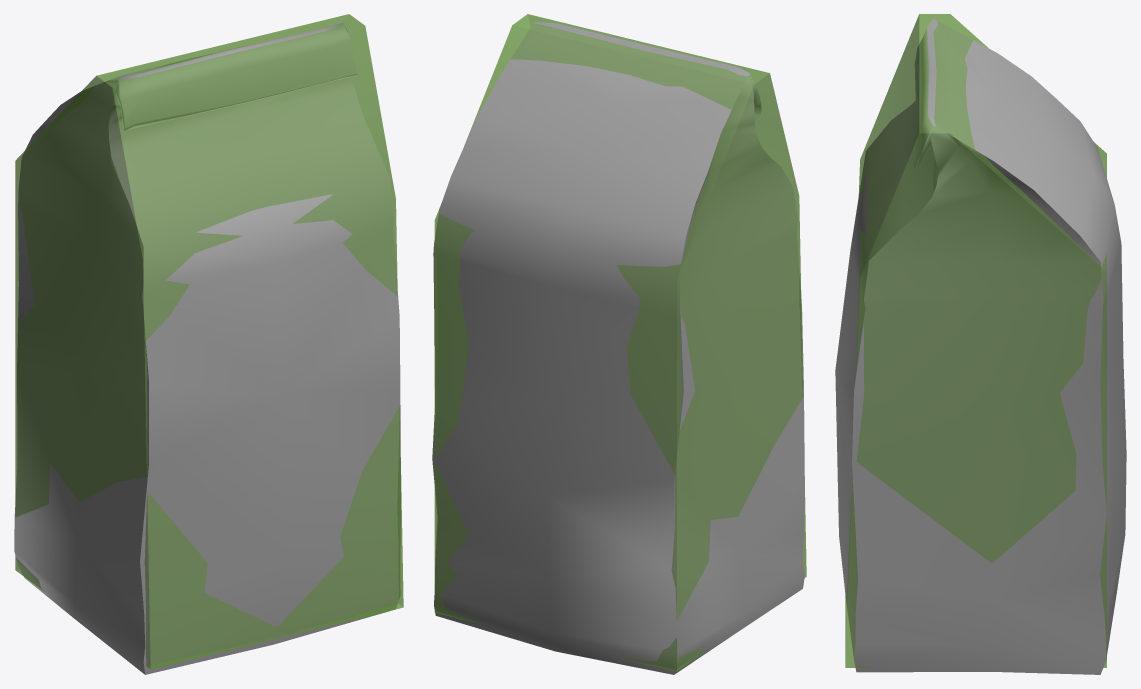
The model's file is p_Packaging_02_a.fbx.
The picture shows the model from 3 angles, left to right: view 1: azimuth 30°, elevation 25°; view 2: azimuth 150°, elevation 25°; view 3: azimuth 270°, elevation 25°; orthographic projection. The views are drawn at different scales.
Visible parts, largest first — view 1: p_Packaging_02_a_LOD0, p_Packaging_02_a_col; view 2: p_Packaging_02_a_LOD0, p_Packaging_02_a_col; view 3: p_Packaging_02_a_LOD0, p_Packaging_02_a_col.
Boxes of the visible parts, x1,y1,x2,y2 form: p_Packaging_02_a_LOD0: [14, 23, 400, 674]; p_Packaging_02_a_col: [15, 14, 403, 669]; p_Packaging_02_a_LOD0: [432, 21, 804, 674]; p_Packaging_02_a_col: [434, 14, 806, 671]; p_Packaging_02_a_LOD0: [835, 18, 1126, 674]; p_Packaging_02_a_col: [845, 14, 1106, 667].
Size of what is drawn, in the model's own units: 12.21 by 25.51 by 12.19.
